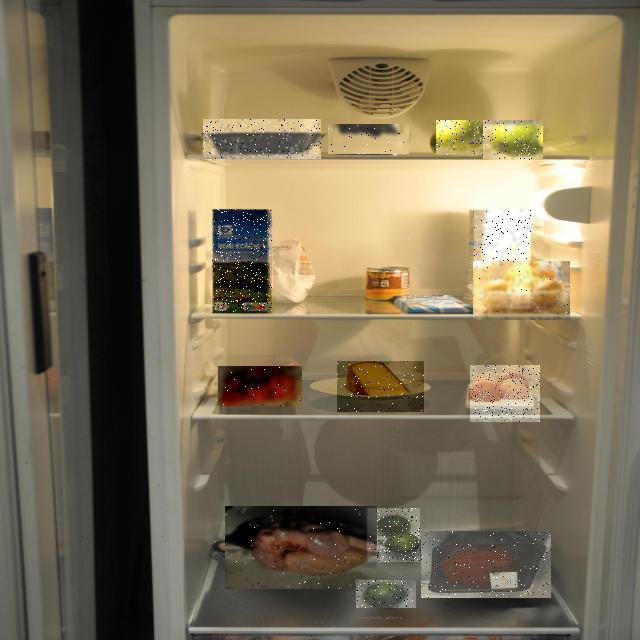Apple: (483, 120, 543, 160), (436, 120, 483, 155)
Cheese: (337, 361, 424, 412)
Eggs: (473, 261, 570, 320), (470, 365, 540, 422)
Lime: (367, 508, 420, 562), (356, 580, 416, 608)
Meat: (225, 506, 377, 589), (421, 531, 551, 598), (203, 119, 321, 159)
Milk: (212, 209, 272, 313), (474, 210, 531, 309)
Olives: (328, 124, 409, 154)
Tomatoes: (218, 366, 302, 406)
